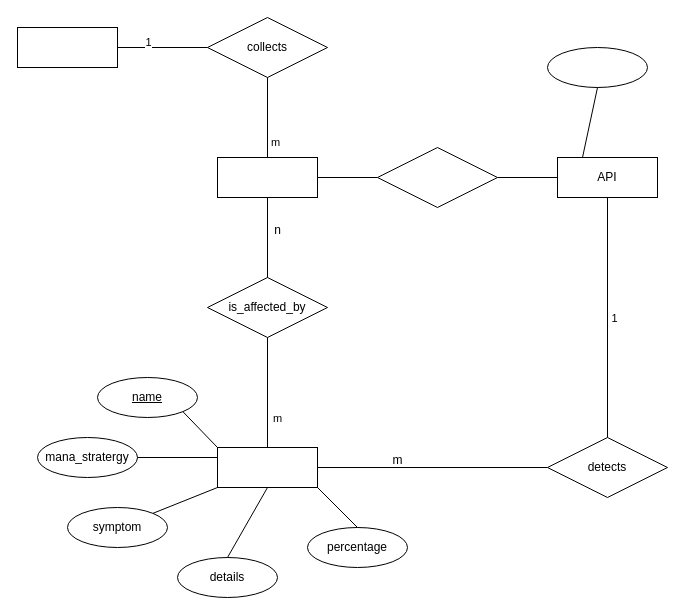
Image size: 685x615. Some labels were removed from this diagram. Each missing label, with the centre of its shape:
"farmer" goes at pixel 67 47.
"request_id" goes at pixel 597 67.
"requests" goes at pixel 437 177.
"rice_disease" goes at pixel 267 467.
"rice_leaf" goes at pixel 267 177.
